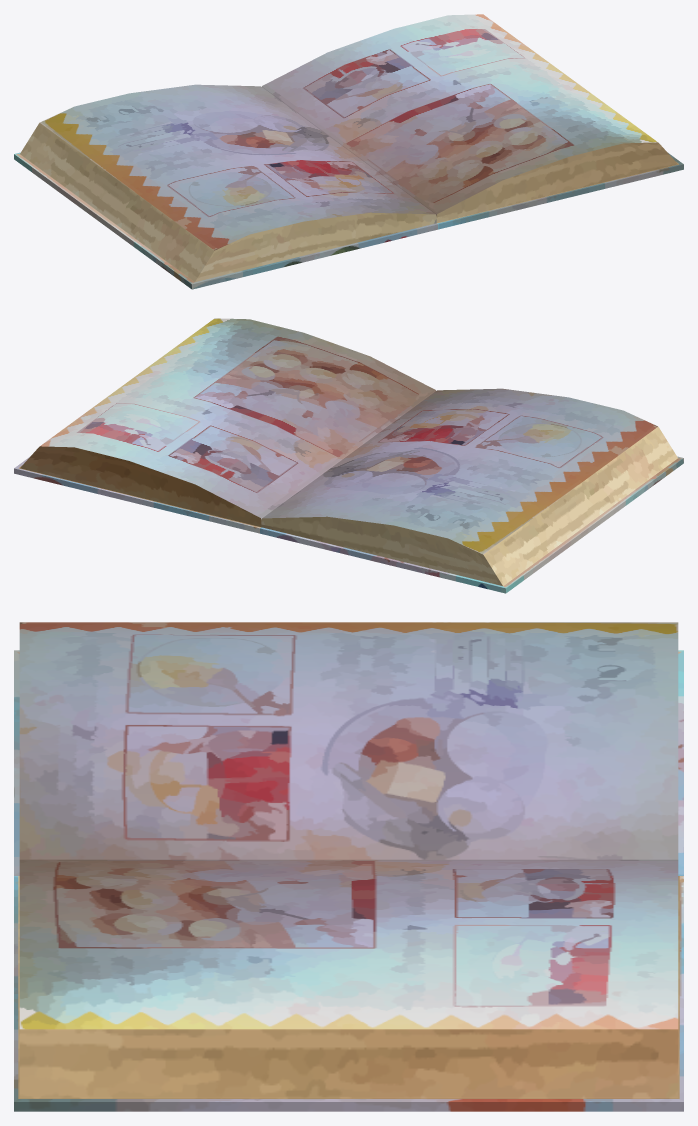
The model's file is kidsCookBook.fbx.
The picture shows the model from 3 angles, top to bottom: view 1: azimuth 30°, elevation 25°; view 2: azimuth 150°, elevation 25°; view 3: azimuth 270°, elevation 25°; orthographic projection. The views are drawn at different scales.
Visible parts, largest first — view 1: KidsCooking; view 2: KidsCooking; view 3: KidsCooking.
Part boxes in pixels (x1=…): KidsCooking: x1=14, y1=14, x2=683, y2=289; KidsCooking: x1=14, y1=318, x2=683, y2=593; KidsCooking: x1=14, y1=622, x2=683, y2=1111.
Bounding box in the file's own units: 16.29 × 1.25 × 10.22.
